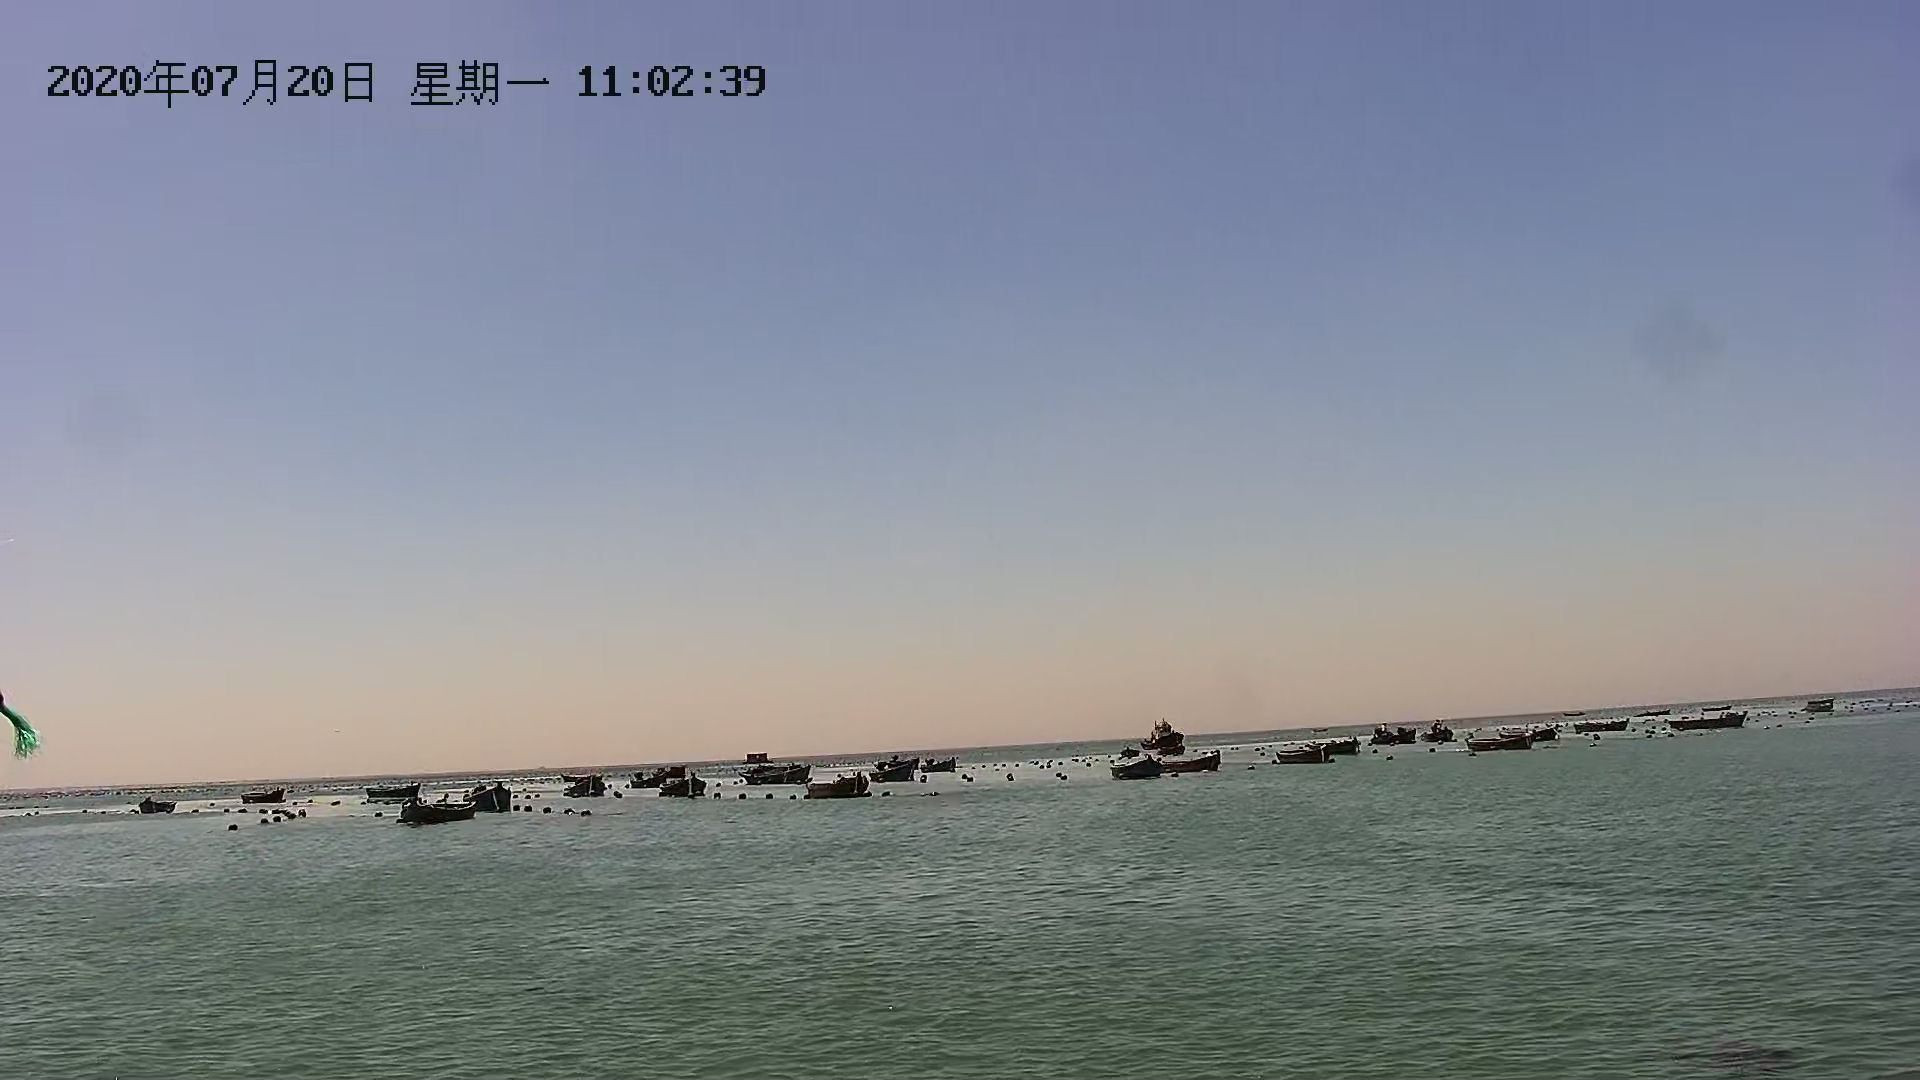boat: (386, 796, 483, 829), (742, 760, 818, 791), (1667, 709, 1754, 736), (1267, 738, 1342, 769), (459, 785, 524, 818), (1461, 729, 1538, 756), (1102, 756, 1167, 785), (804, 777, 876, 802), (872, 754, 923, 789), (1153, 750, 1222, 775), (1364, 723, 1428, 748), (1568, 713, 1638, 736), (655, 775, 711, 803), (131, 789, 183, 818), (235, 785, 293, 811), (355, 781, 425, 802), (1801, 696, 1840, 717)
ship: (1133, 721, 1193, 756)
